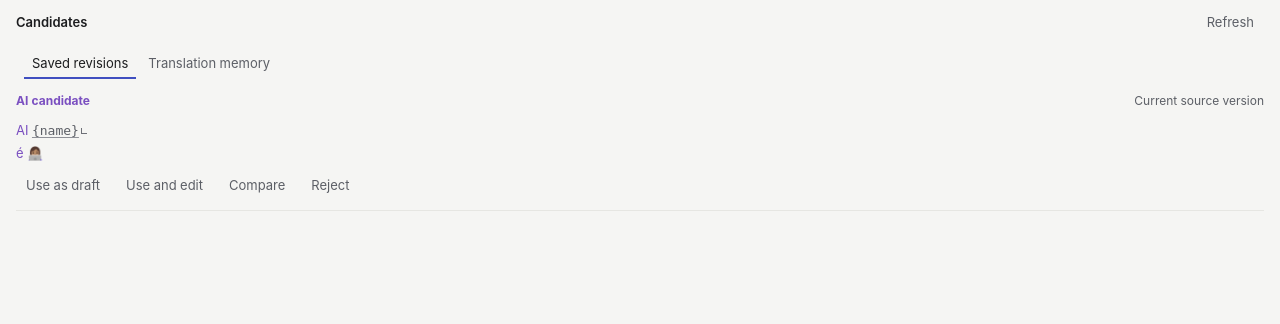
Test: preserves newer input arriving while candidate qualification is pending
The width and height of the screenshot is (1280, 324).
Click the button "Use as draft" at (63,185), box top-left (16, 172), bottom-right (110, 198)
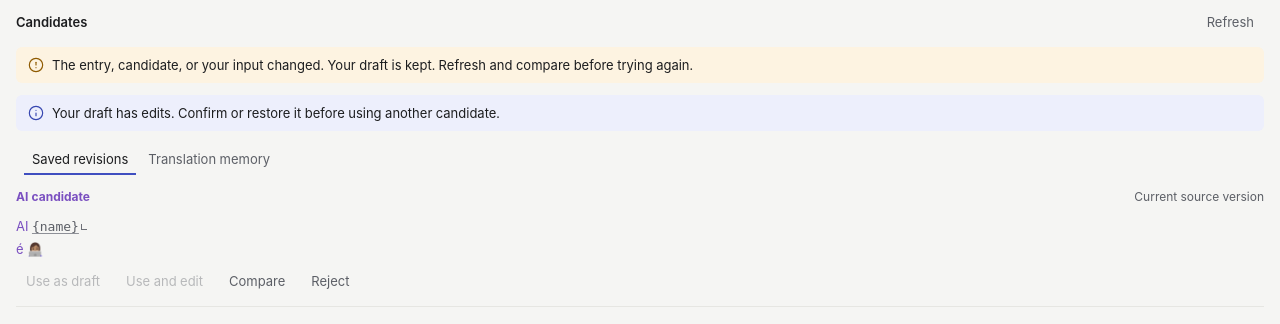
Check: the text "The entry, candidate, or your input changed. Your draft is kept. Refresh and compare before trying again." is shown, box top-left (52, 57), bottom-right (693, 73)
